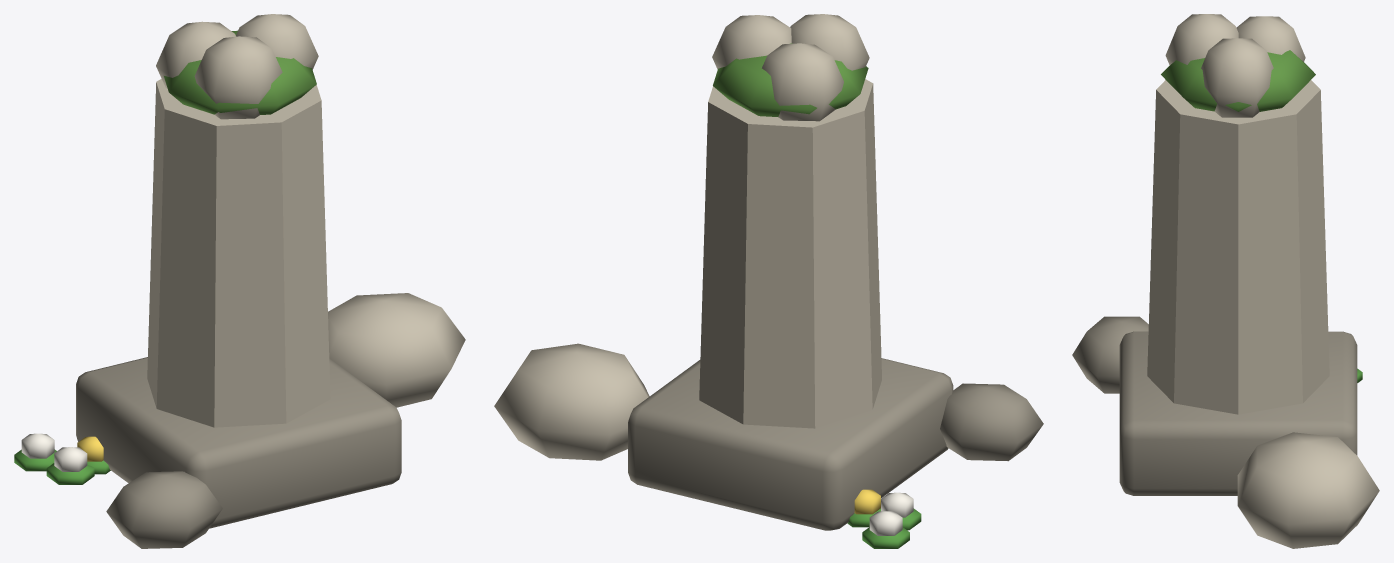
File: RuinPillarBroken.fbx
3 renders of one model, left to right at view 1: azimuth 30°, elevation 25°; view 2: azimuth 150°, elevation 25°; view 3: azimuth 270°, elevation 25°, orthographic. The views are drawn at different scales.
Visible parts, largest first — view 1: Frame; view 2: Frame; view 3: Frame.
Boxes of the visible parts, x1,y1,x2,y2 form: Frame: [14, 14, 465, 548]; Frame: [494, 14, 1043, 548]; Frame: [1072, 14, 1379, 548].
Size of the model in its own units: 2.89 by 2.87 by 1.85.
Materials: 1 (1 with a texture image).
